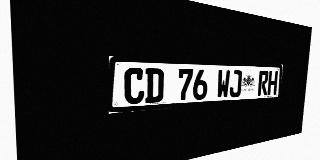6: (192, 69, 208, 100)
7: (176, 69, 193, 101)
C: (124, 68, 145, 105)
D: (145, 68, 164, 103)
H: (267, 71, 278, 95)
J: (229, 70, 242, 98)
R: (257, 71, 269, 96)
W: (216, 70, 230, 98)
